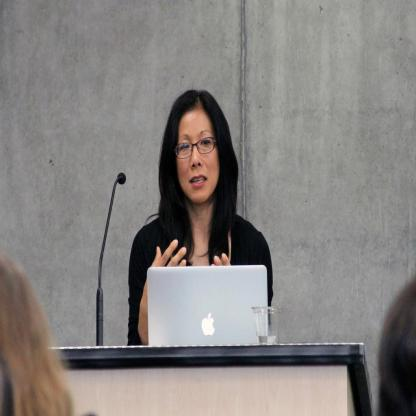board: (145, 259, 279, 346), (252, 307, 280, 346)
